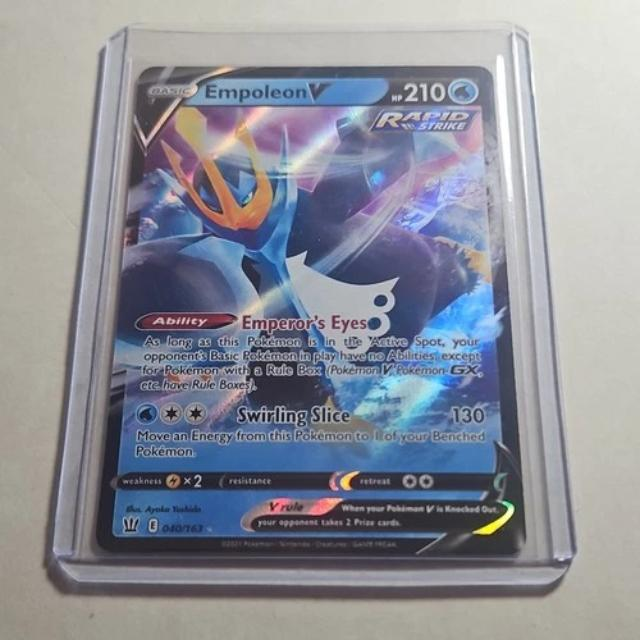Card: (87, 59, 530, 562)
Name: (198, 76, 340, 105)
